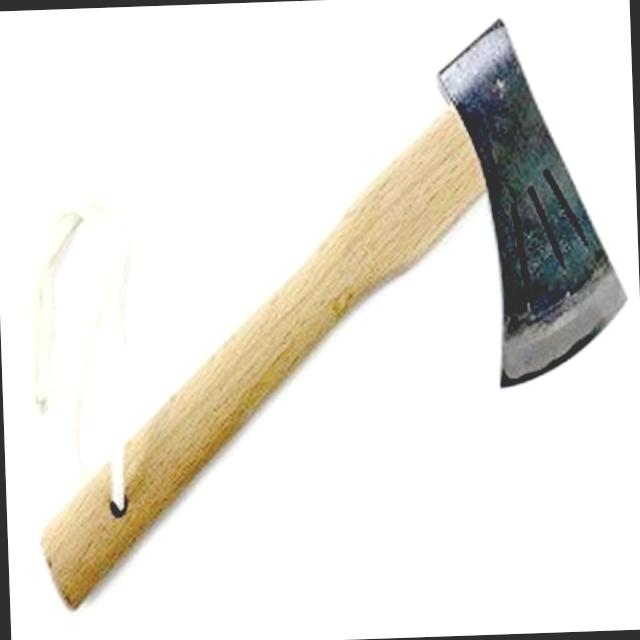ax: (9, 6, 640, 621)
